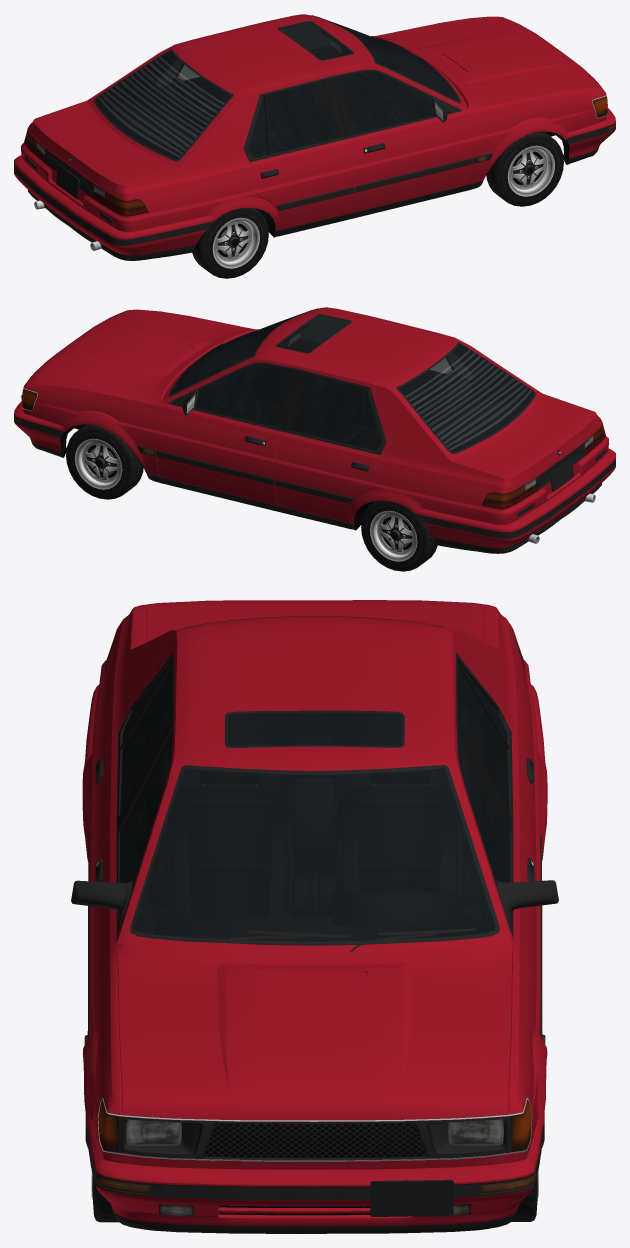
File: car_coupe.glb
The picture shows the model from 3 angles, top to bottom: view 1: azimuth 30°, elevation 25°; view 2: azimuth 150°, elevation 25°; view 3: azimuth 270°, elevation 25°; orthographic projection. The views are drawn at different scales.
Visible parts, largest first — view 1: kiri86_Body_kiri86_Bodymat_0, kiri86_Interior_UCB_Interior_Trim_0, kiri86_Hood_kiri86_Bodymat_0, kiri86_Bottom_UCB_BOTTOM_GT_0, kiri86_Rear_window_UCB_Lights_and_Glass_Transperent_0, kiri86_Body_Glass_UCB_Lights_and_Glass_Transperent_0, kiri86_Trunk_door_kiri86_Bodymat_0, kiri86_Wheel_FR_RB1c_Tire_1k_0, kiri86_Glass_Passenger_UCB_Lights_and_Glass_Transperent_0, kiri86_Wheel_RR_RB1c_Tire_1k_0, kiri86_Bumper_rear_kiri86_Bodymat_0, kiri86_bumper_rear_inner_UCB_BOTTOM_GT_0 (+6 smaller); view 2: kiri86_Body_kiri86_Bodymat_0, kiri86_Interior_UCB_Interior_Trim_0, kiri86_Hood_kiri86_Bodymat_0, kiri86_Bottom_UCB_BOTTOM_GT_0, kiri86_Rear_window_UCB_Lights_and_Glass_Transperent_0, kiri86_Body_Glass_UCB_Lights_and_Glass_Transperent_0, kiri86_Trunk_door_kiri86_Bodymat_0, kiri86_Wheel_FL_RB1c_Tire_1k_0, kiri86_Glass_Driver_UCB_Lights_and_Glass_Transperent_0, kiri86_Wheel_RL_RB1c_Tire_1k_0, kiri86_Bumper_rear_kiri86_Bodymat_0, kiri86_bumper_rear_inner_UCB_BOTTOM_GT_0 (+7 smaller); view 3: kiri86_Body_kiri86_Bodymat_0, kiri86_Interior_UCB_Interior_Trim_0, kiri86_Hood_kiri86_Bodymat_0, kiri86_Windshield_UCB_Lights_and_Glass_Transperent_0, kiri86_Bottom_UCB_BOTTOM_GT_0, kiri86_Bumper_front_kiri86_Bodymat_0, kiri86_Bumper_Front_Inner_UCB_BOTTOM_GT_0, kiri86_Body_Glass_UCB_Lights_and_Glass_Transperent_0, kiri86_Trunk_door_kiri86_Bodymat_0, kiri86_Headlights_Glass_UCB_Lights_and_Glass_Transperent_0, kiri86_Glass_Driver_UCB_Lights_and_Glass_Transperent_0, kiri86_Glass_Passenger_UCB_Lights_and_Glass_Transperent_0 (+3 smaller).
Part boxes in pixels (x1,y1,x2,y2): kiri86_Body_kiri86_Bodymat_0: (21,14,606,232); kiri86_Interior_UCB_Interior_Trim_0: (96,23,458,158); kiri86_Hood_kiri86_Bodymat_0: (371,17,603,109); kiri86_Bottom_UCB_BOTTOM_GT_0: (24,15,607,250); kiri86_Rear_window_UCB_Lights_and_Glass_Transperent_0: (95,50,231,159); kiri86_Body_Glass_UCB_Lights_and_Glass_Transperent_0: (157,22,352,157); kiri86_Trunk_door_kiri86_Bodymat_0: (30,104,172,194); kiri86_Wheel_FR_RB1c_Tire_1k_0: (486,131,563,206); kiri86_Glass_Passenger_UCB_Lights_and_Glass_Transperent_0: (336,71,434,134); kiri86_Wheel_RR_RB1c_Tire_1k_0: (192,208,268,278); kiri86_Bumper_rear_kiri86_Bodymat_0: (14,155,221,255); kiri86_bumper_rear_inner_UCB_BOTTOM_GT_0: (14,166,213,260); kiri86_Body_kiri86_Bodymat_0: (23,307,608,524); kiri86_Interior_UCB_Interior_Trim_0: (171,316,533,451); kiri86_Hood_kiri86_Bodymat_0: (26,310,258,402); kiri86_Bottom_UCB_BOTTOM_GT_0: (22,308,605,543); kiri86_Rear_window_UCB_Lights_and_Glass_Transperent_0: (398,344,534,452); kiri86_Body_Glass_UCB_Lights_and_Glass_Transperent_0: (277,315,472,450); kiri86_Trunk_door_kiri86_Bodymat_0: (457,397,599,487); kiri86_Wheel_FL_RB1c_Tire_1k_0: (66,424,143,499); kiri86_Glass_Driver_UCB_Lights_and_Glass_Transperent_0: (195,364,293,427); kiri86_Wheel_RL_RB1c_Tire_1k_0: (361,500,437,571); kiri86_Bumper_rear_kiri86_Bodymat_0: (407,448,615,548); kiri86_bumper_rear_inner_UCB_BOTTOM_GT_0: (416,459,615,553); kiri86_Body_kiri86_Bodymat_0: (82,604,547,1169); kiri86_Interior_UCB_Interior_Trim_0: (121,667,508,940); kiri86_Hood_kiri86_Bodymat_0: (117,944,512,1120); kiri86_Windshield_UCB_Lights_and_Glass_Transperent_0: (134,768,495,941); kiri86_Bottom_UCB_BOTTOM_GT_0: (71,616,558,1161); kiri86_Bumper_front_kiri86_Bodymat_0: (85,1113,544,1226); kiri86_Bumper_Front_Inner_UCB_BOTTOM_GT_0: (85,1118,544,1233); kiri86_Body_Glass_UCB_Lights_and_Glass_Transperent_0: (120,665,509,813); kiri86_Trunk_door_kiri86_Bodymat_0: (146,600,483,642); kiri86_Headlights_Glass_UCB_Lights_and_Glass_Transperent_0: (98,1100,531,1152); kiri86_Glass_Driver_UCB_Lights_and_Glass_Transperent_0: (458,730,510,882); kiri86_Glass_Passenger_UCB_Lights_and_Glass_Transperent_0: (119,730,171,882).
Size of the model in its own units: 4.31 by 1.32 by 1.76.
6 materials, 5 textured.
